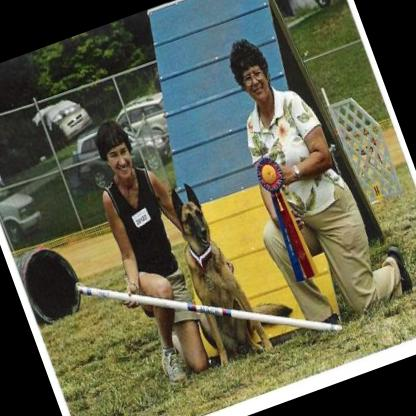malinois: (147, 169, 276, 372)
